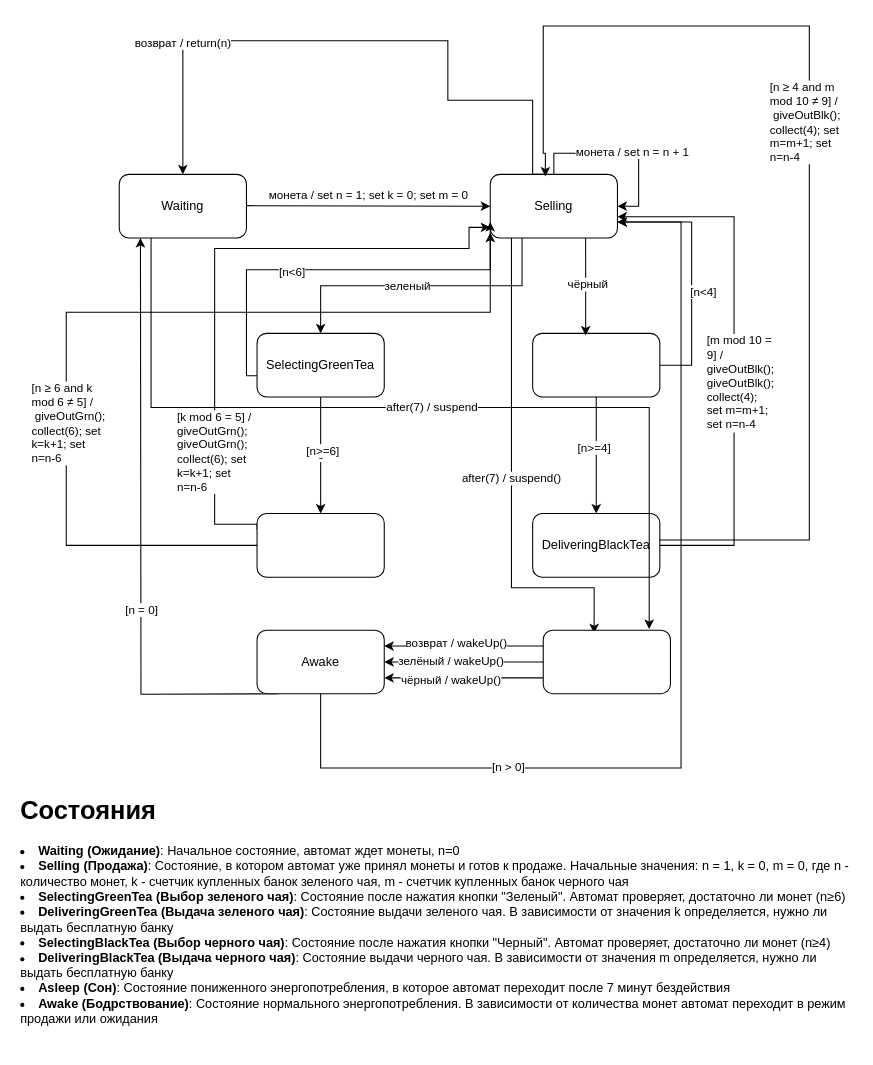
This 873x1065 diagram has some shape labels left out. The shapes that lost their labels are listed below. From the top down, each one's centre as x and y in pixels, then its label:
point (596, 364): SelectingBlackTea
point (320, 545): DeliveringGreenTea
point (606, 661): Asleep
